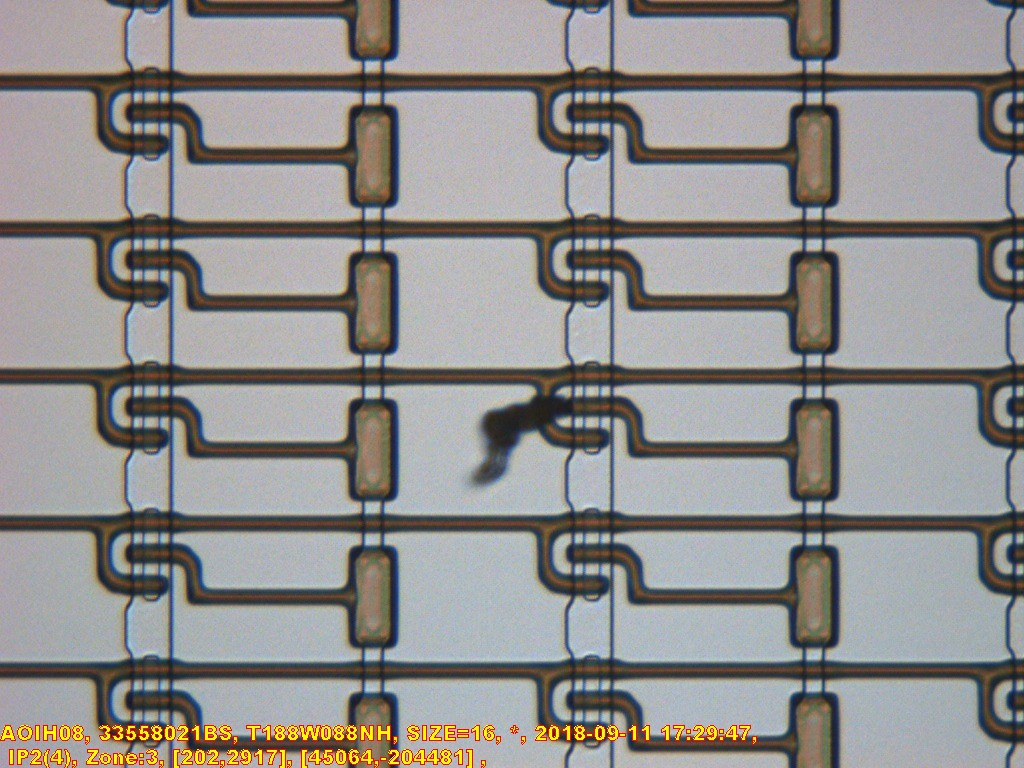good: (75, 52, 203, 166), (516, 52, 644, 166), (75, 199, 203, 313), (515, 199, 643, 313), (74, 346, 202, 460), (74, 493, 202, 607), (515, 493, 643, 607), (784, 98, 838, 209), (784, 245, 838, 356), (784, 392, 838, 503), (342, 540, 396, 651), (784, 539, 838, 650)
ng: (516, 346, 644, 460)
test: (342, 98, 396, 209), (342, 246, 396, 357), (342, 393, 396, 504)
